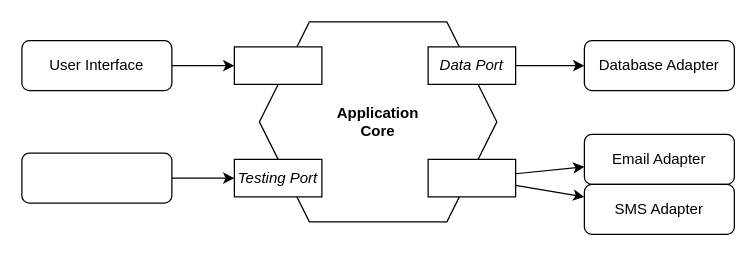
Image size: 756x256. Some labels were removed from this diagram. The box of each missing label's shape, as (x1, y1, x2, y2) in pixels:
Input Port: (233, 46, 322, 84)
Integration tests: (21, 152, 172, 203)
Notification Port: (427, 158, 516, 197)
